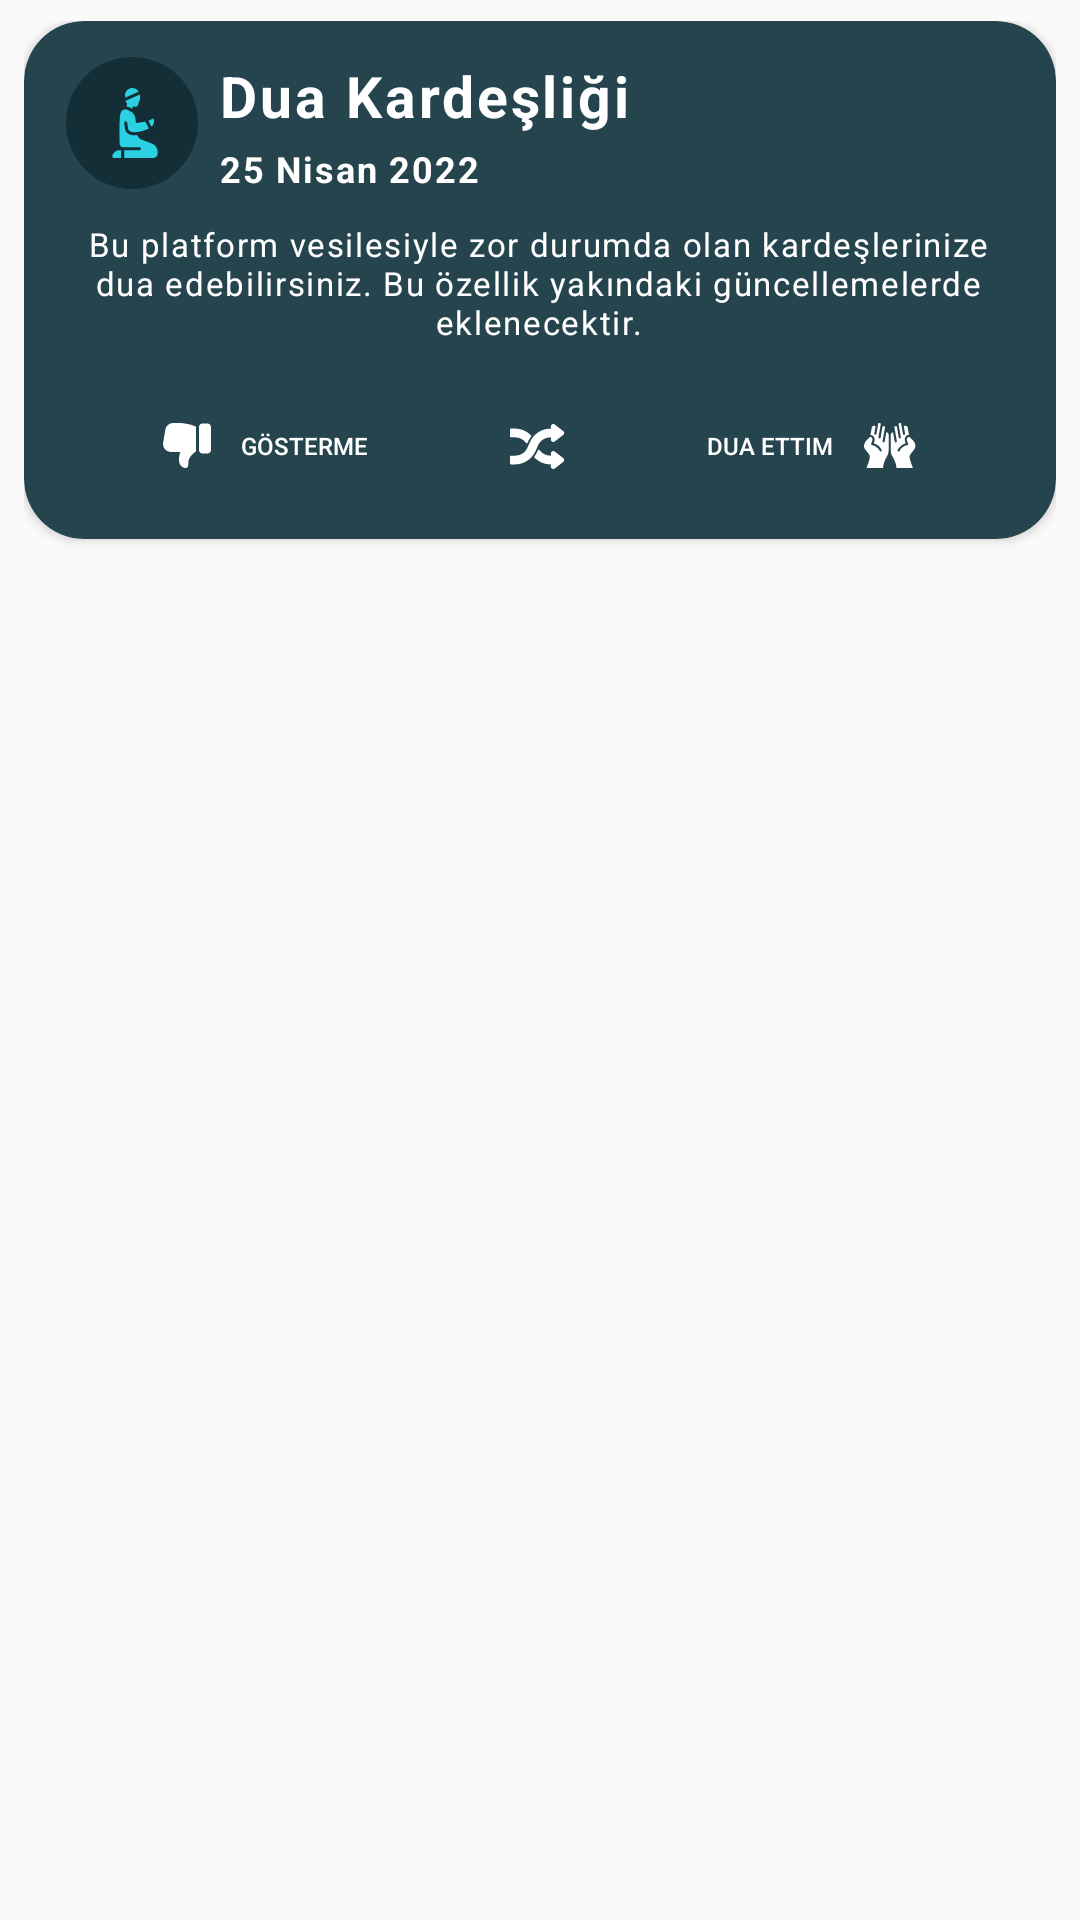

Icons on this 1080px×1920px Android screen, each with the point to tap as point (x, y):
duakardesligi: point (132, 123)
shuffle: point (537, 446)
